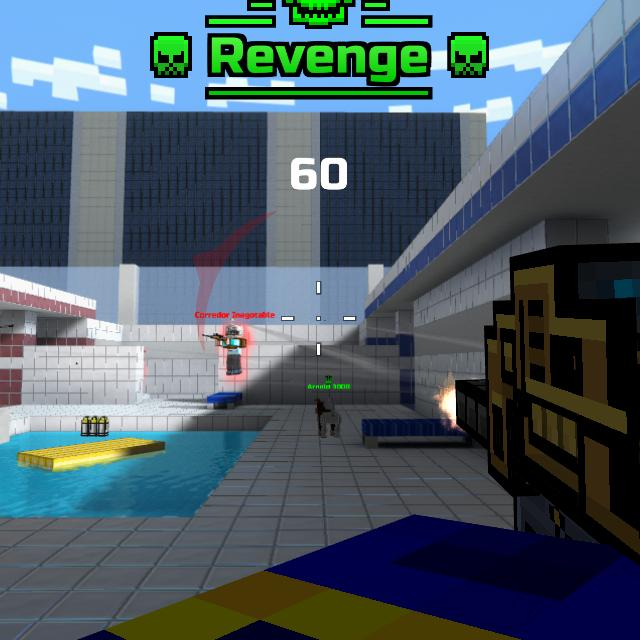Enemy: (215, 325, 247, 376)
